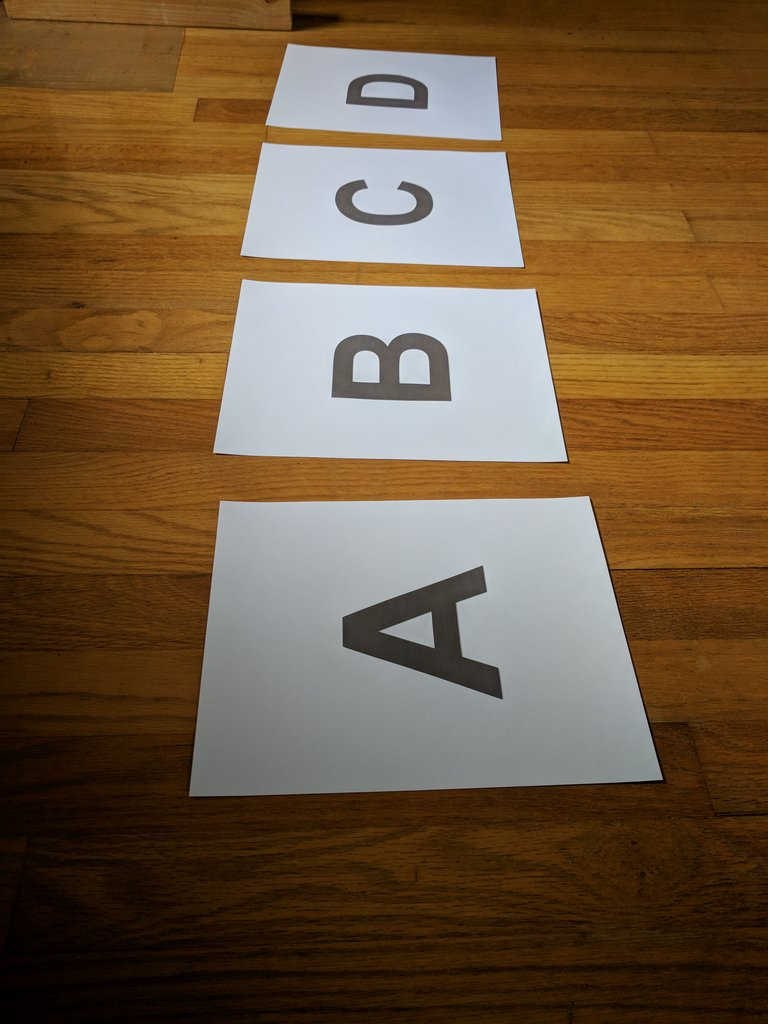home: (329, 332, 454, 401)
